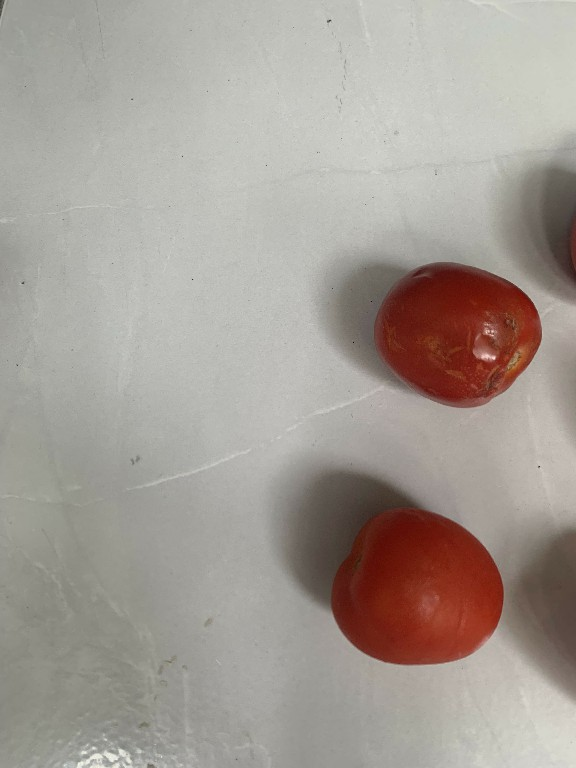NG: (372, 253, 540, 422)
OK: (325, 502, 512, 673)
